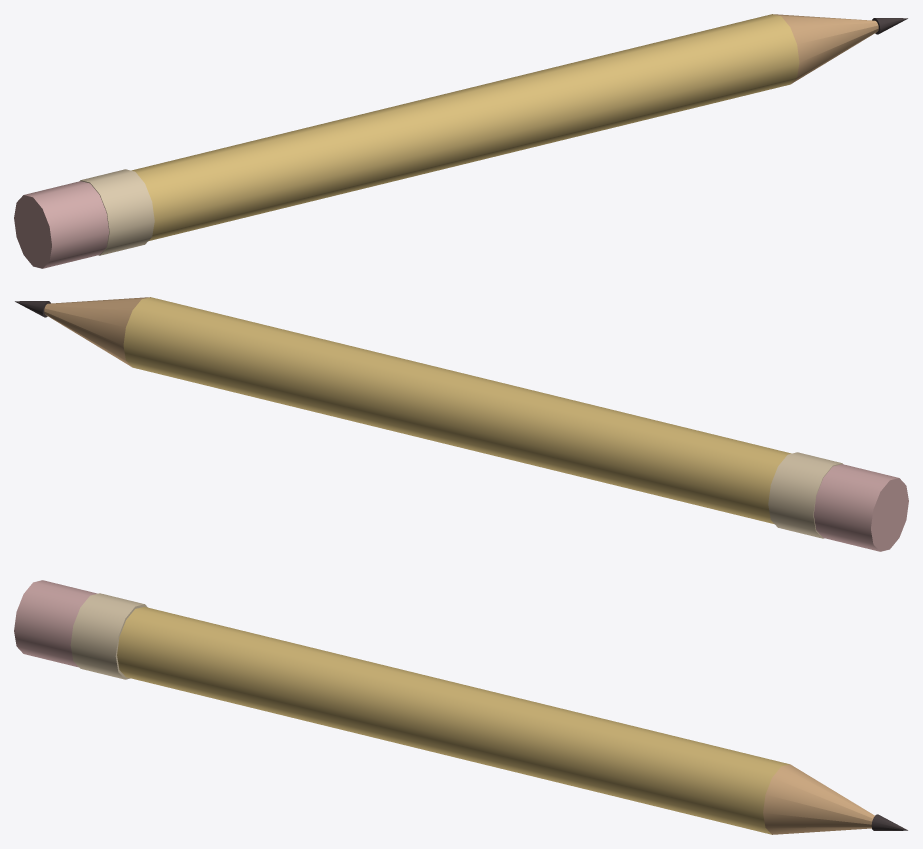
File: pencil.glb
3 views of the same model, one above another, from view 1: azimuth 30°, elevation 25°; view 2: azimuth 150°, elevation 25°; view 3: azimuth 330°, elevation 25° (orthographic).
Parts seen in each view (by area): view 1: pencil.material0, pencil.material4, pencil.material3, pencil.material1; view 2: pencil.material0, pencil.material4, pencil.material3, pencil.material1; view 3: pencil.material0, pencil.material1, pencil.material4, pencil.material3.
Part boxes in pixels (x1,y1,x2,y2): pencil.material0: [131, 14, 799, 241]; pencil.material4: [14, 181, 109, 268]; pencil.material3: [80, 169, 154, 255]; pencil.material1: [772, 14, 878, 83]; pencil.material0: [123, 297, 791, 524]; pencil.material4: [813, 464, 908, 551]; pencil.material3: [768, 452, 842, 538]; pencil.material1: [44, 297, 150, 366]; pencil.material0: [117, 606, 789, 834]; pencil.material1: [763, 764, 874, 834]; pencil.material4: [14, 580, 97, 667]; pencil.material3: [70, 593, 147, 679].
Bounding box in the file's own units: 0.583 × 0.045 × 0.045.
